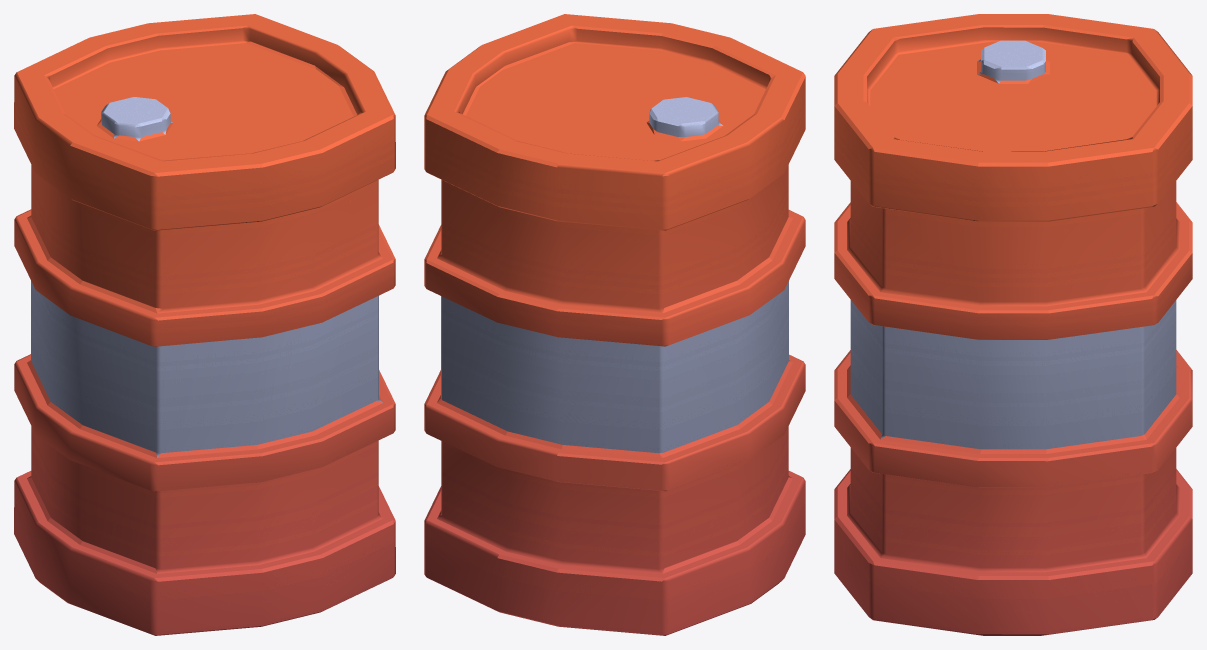
The model's file is kenney-survival__barrel.glb.
The picture shows the model from 3 angles, left to right: view 1: azimuth 30°, elevation 25°; view 2: azimuth 150°, elevation 25°; view 3: azimuth 270°, elevation 25°; orthographic projection. The views are drawn at different scales.
Visible parts, largest first — view 1: barrel; view 2: barrel; view 3: barrel.
Boxes of the visible parts, box(x1,y1,x2,y2) form: barrel: box(14, 14, 395, 635); barrel: box(424, 14, 805, 635); barrel: box(834, 14, 1192, 635).
Size of the model in its own units: 0.2365 by 0.344 by 0.2365.
Materials: 1 (1 with a texture image).
